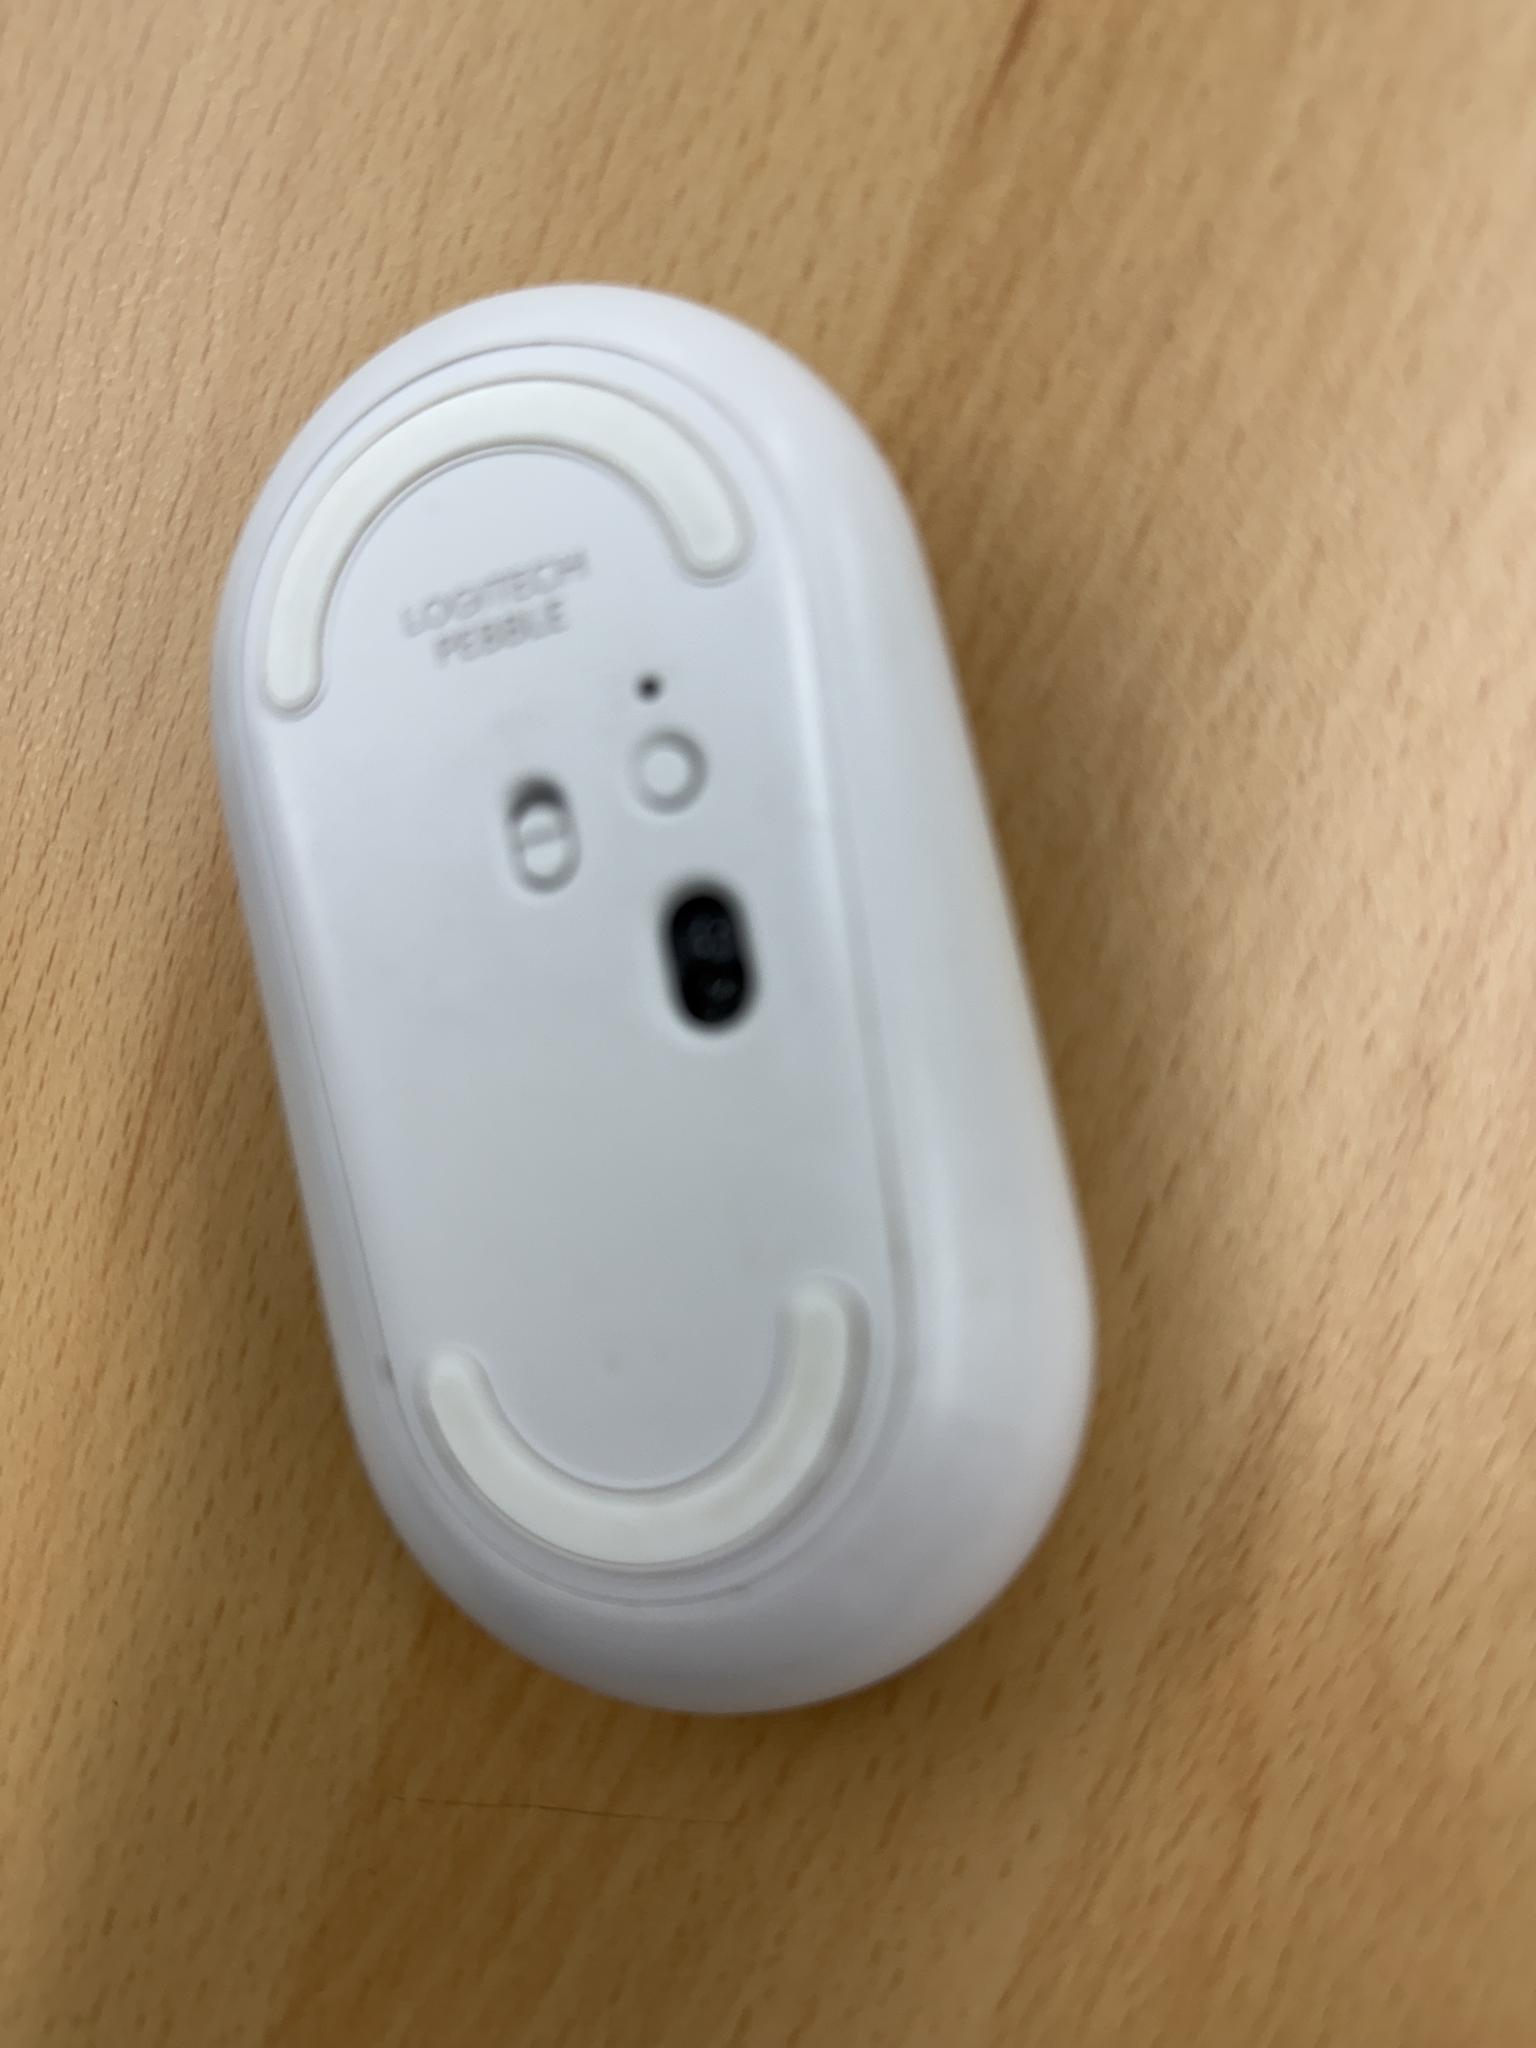back: (200, 282, 1123, 1730)
